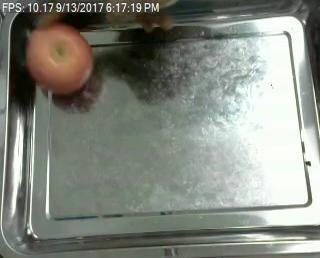apple: (24, 25, 93, 95)
